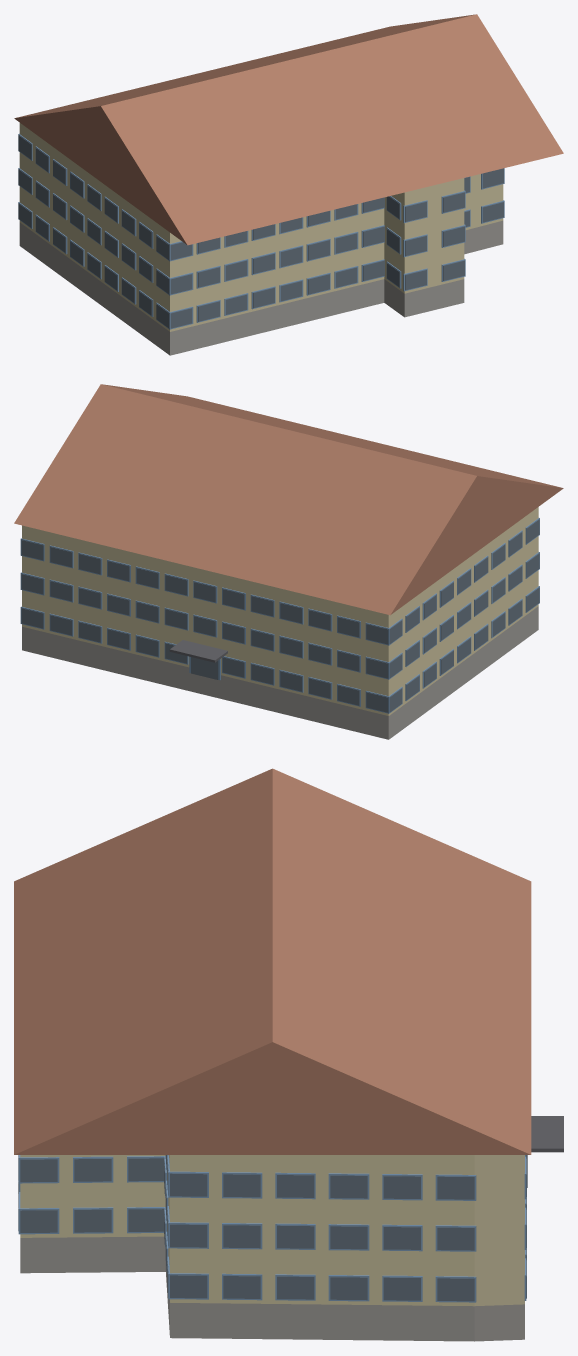
Rendered from landmark-kandern-bfa-3.glb.
3 views of the same model, one above another, from view 1: azimuth 30°, elevation 25°; view 2: azimuth 150°, elevation 25°; view 3: azimuth 270°, elevation 25° (orthographic). The views are drawn at different scales.
Parts seen in each view (by area): view 1: building; view 2: building; view 3: building.
Part boxes in pixels (x1=…): building: x1=14, y1=14, x2=563, y2=355; building: x1=14, y1=384, x2=563, y2=739; building: x1=14, y1=768, x2=563, y2=1341.
Bounding box in the file's own units: 41.57 × 21.4 × 35.32.
